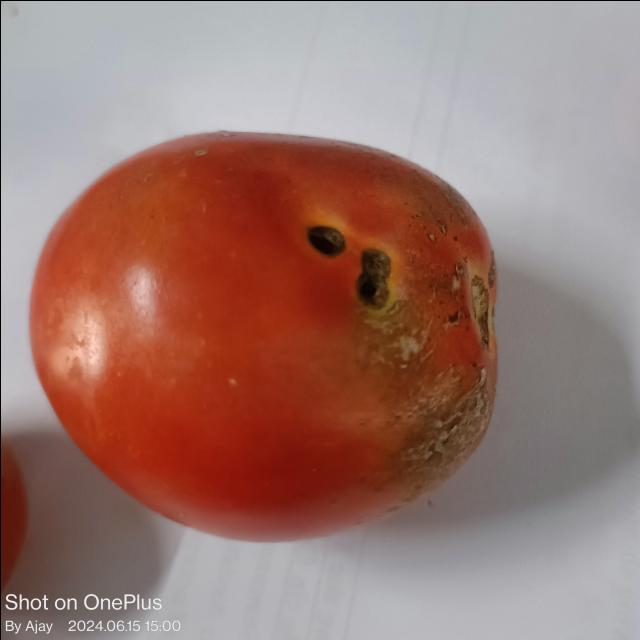fruitworm_bore: (298, 211, 396, 309)
